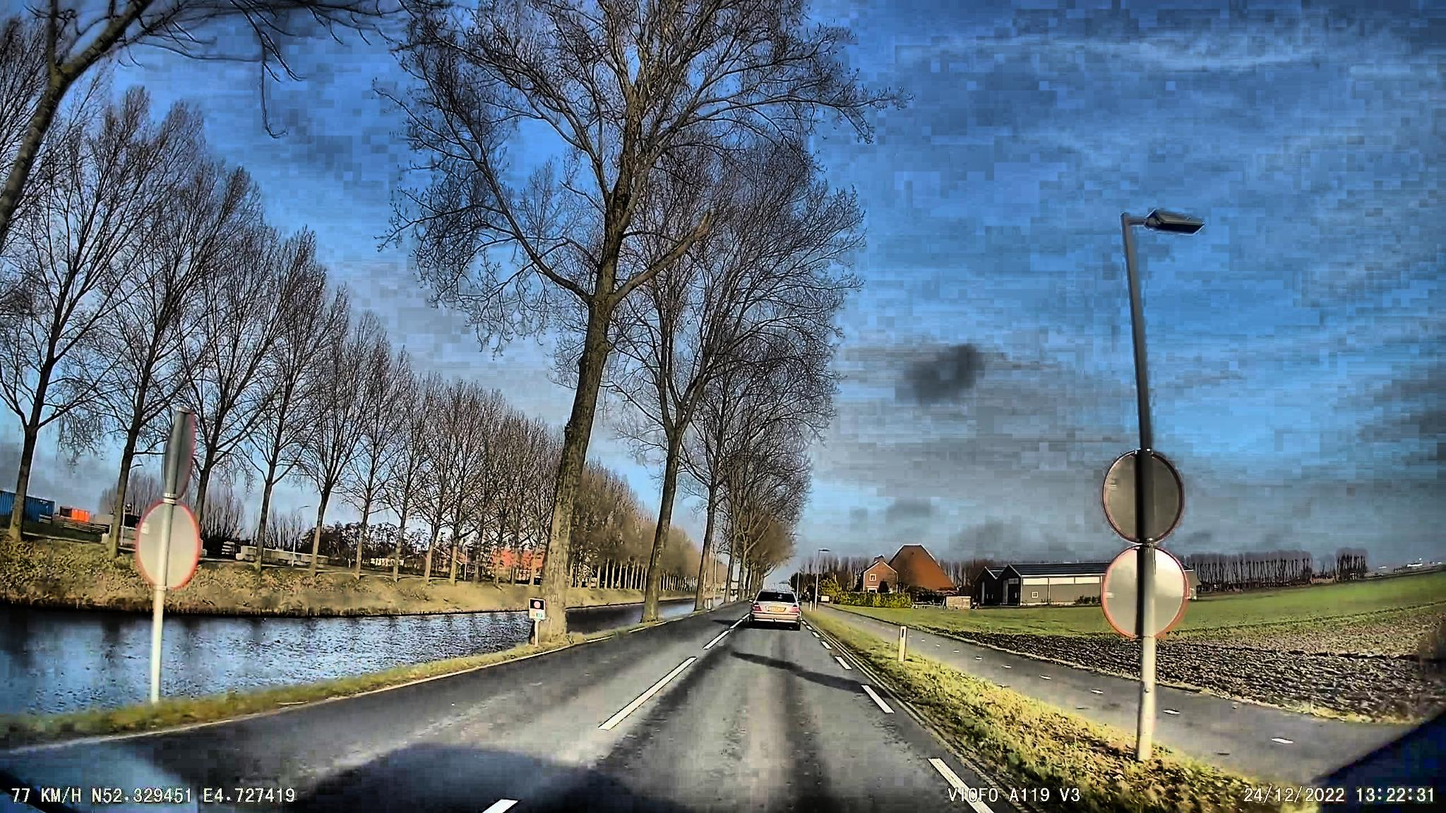Roads: (0, 616, 1025, 813)
